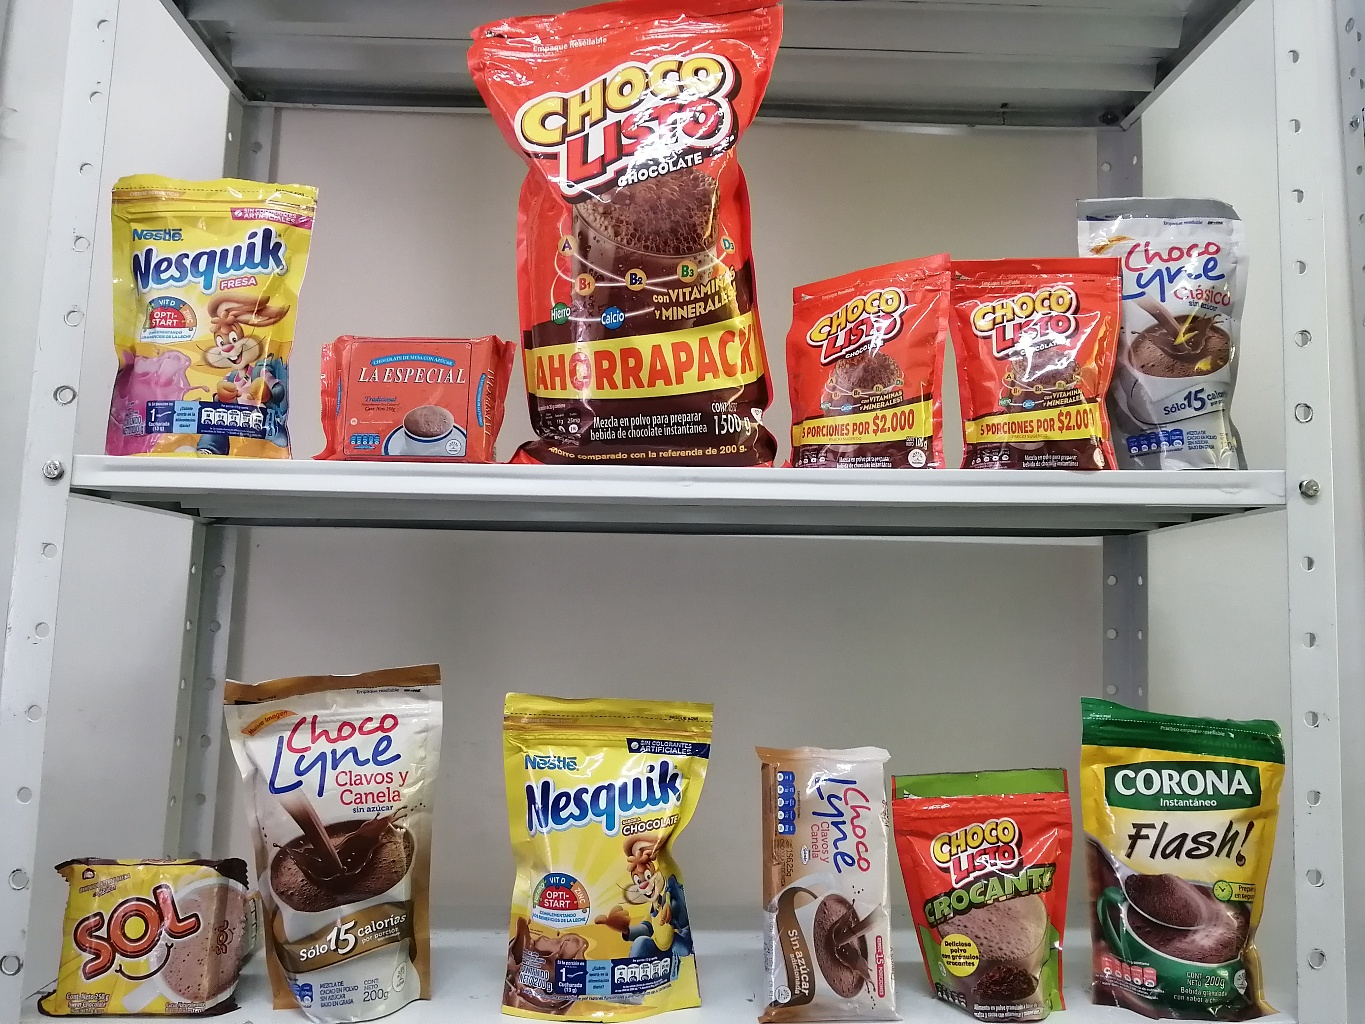COL0170102DYP10000: (881, 754, 1081, 1016)
COL0170103DYP1,500: (449, 1, 816, 469)
COL0170103DYP10000: (929, 221, 1156, 489)
COL0170303DYP20000: (469, 669, 741, 1019)
COL0170305DYP20000: (86, 156, 316, 464)
